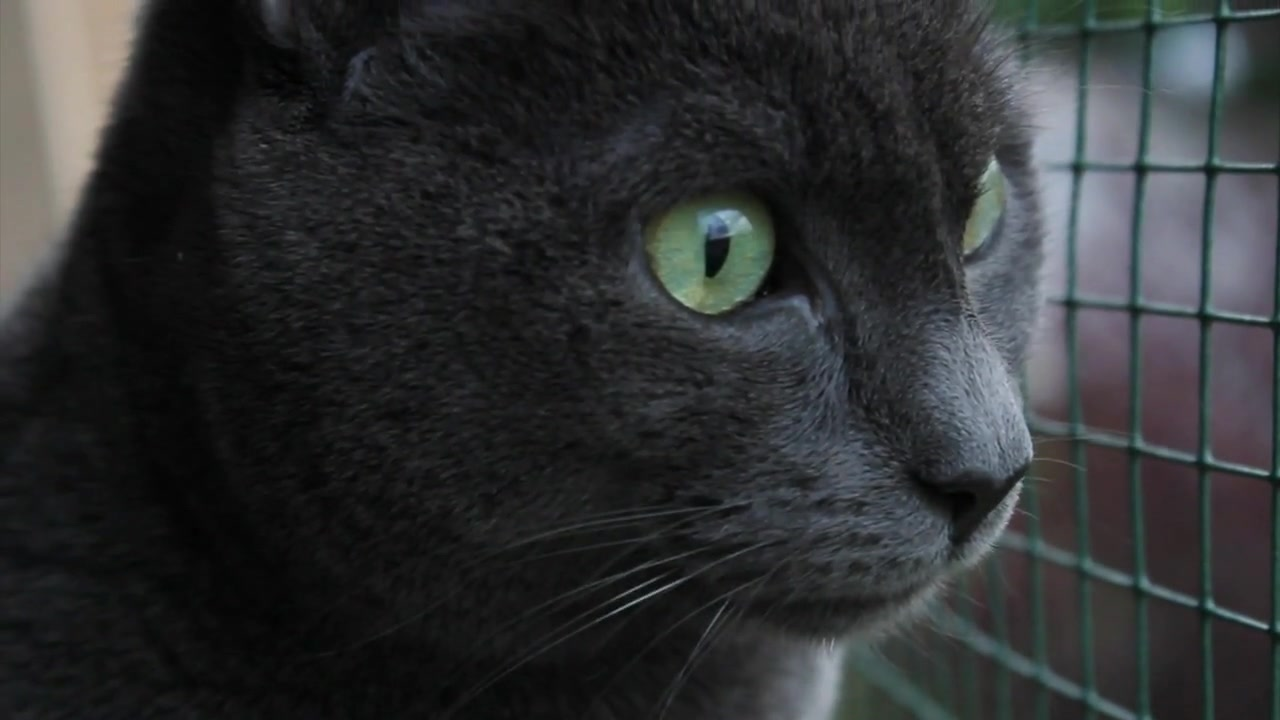cat: (1, 2, 1055, 720)
